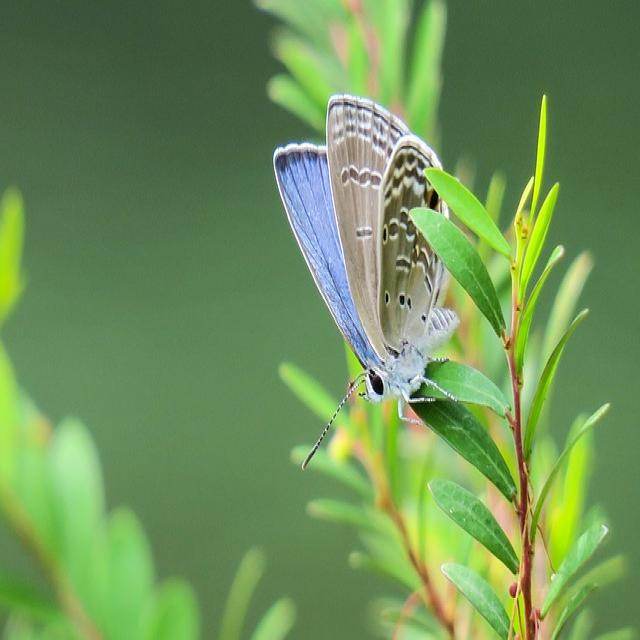butterfly: (273, 95, 521, 505)
